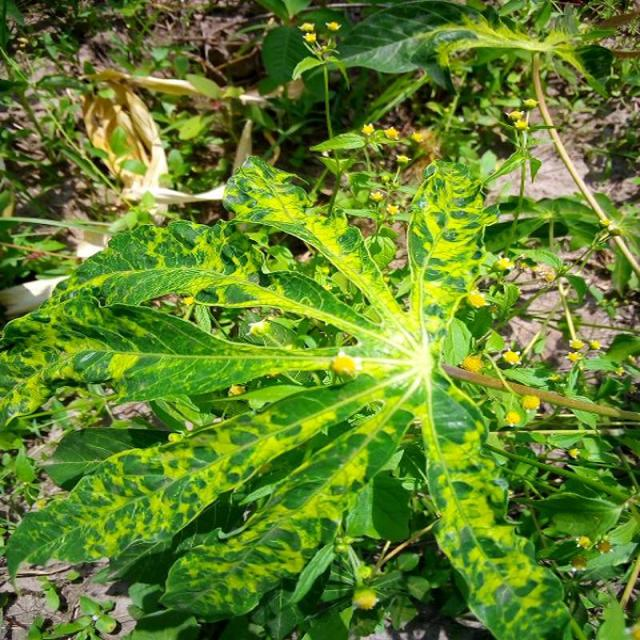cassava leaf: (1, 151, 576, 637)
